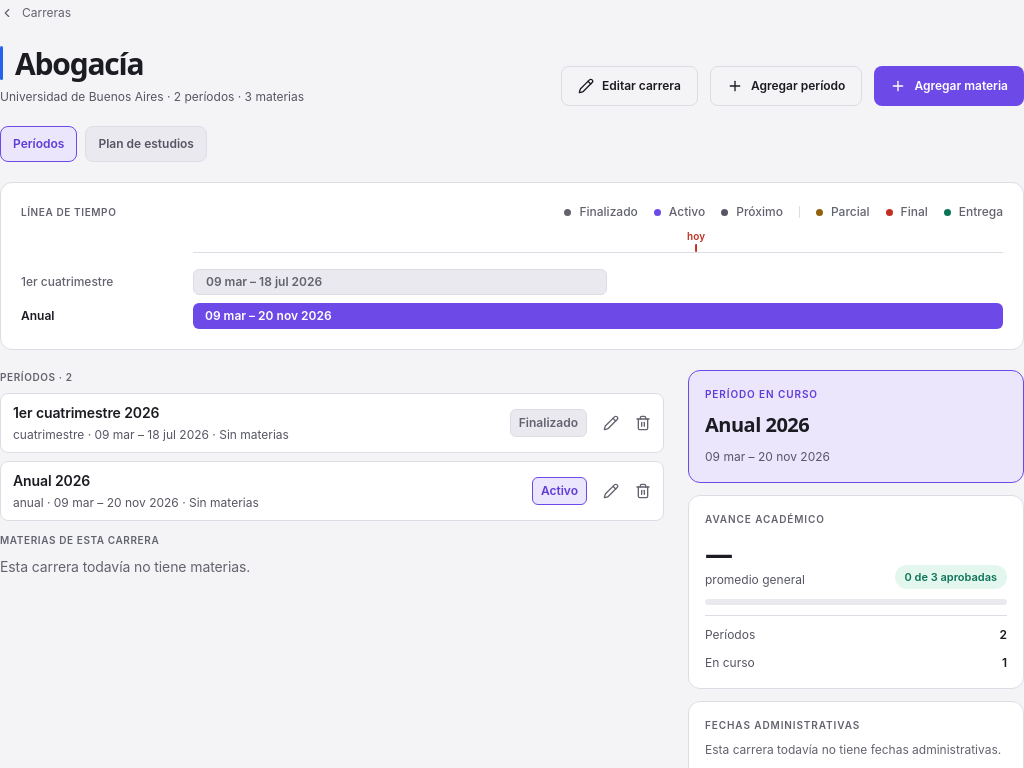
Test: CarreraDetailContainer — editar y eliminar períodos › says why the period could not be saved instead of failing silently
Expected: the heading "Abogacía" is shown, [15,46,144,80]
Click the button named "Editar 1er cuatrimestre".
click(611, 423)  # box [595,407,627,439]
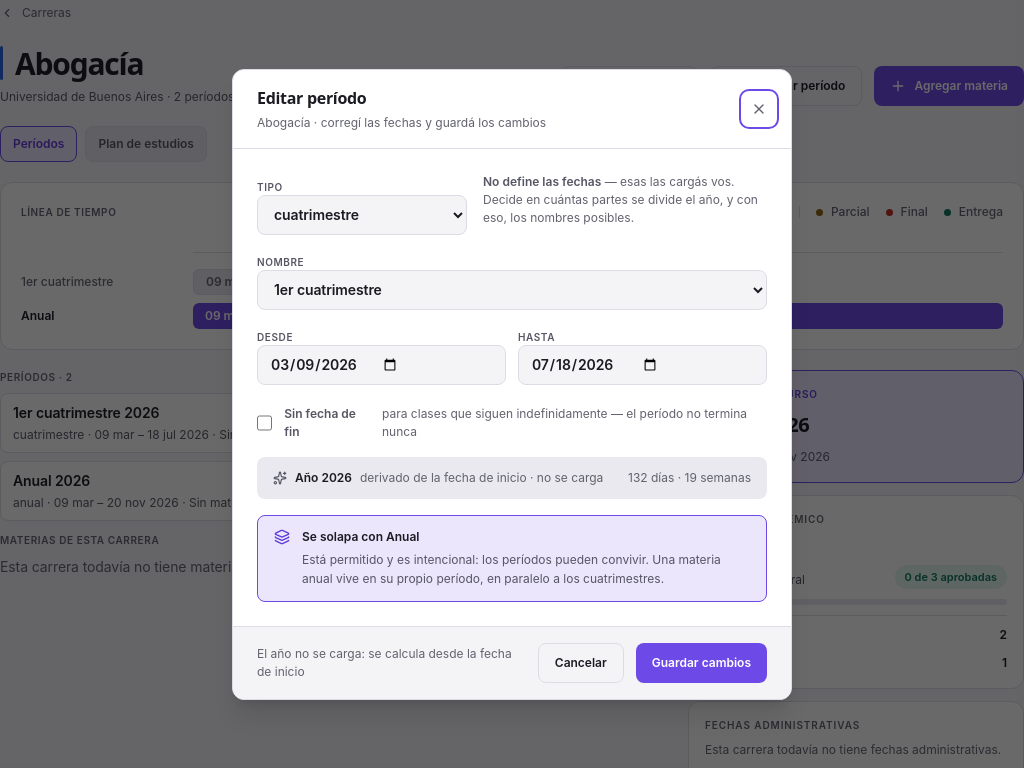
Click the button "Guardar cambios".
click(701, 662)  # box [636,642,767,682]
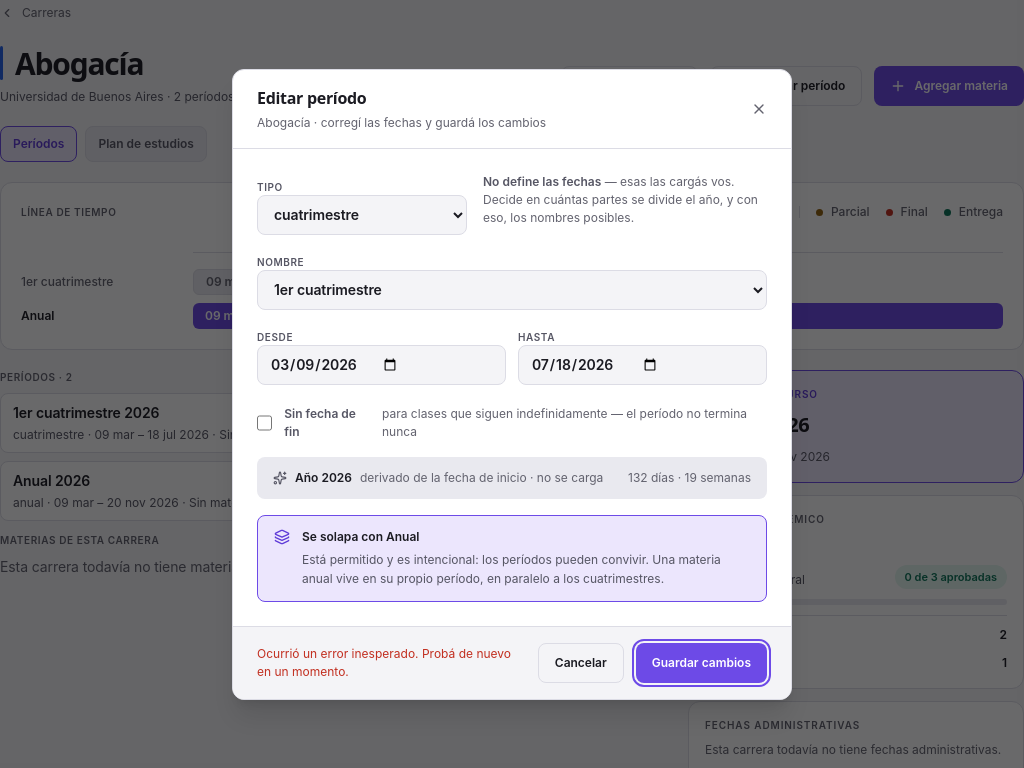
Expected: the dialog "Editar período" is shown, [232,68,792,700]
Expected: the text "Ocurrió un error inesperado. Probá de nuevo en un momento." is shown, [257,644,526,680]
